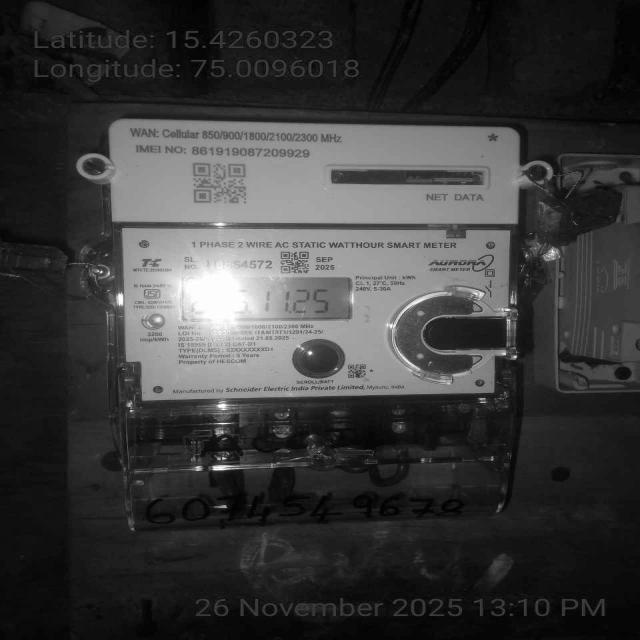meter: (104, 118, 517, 397)
